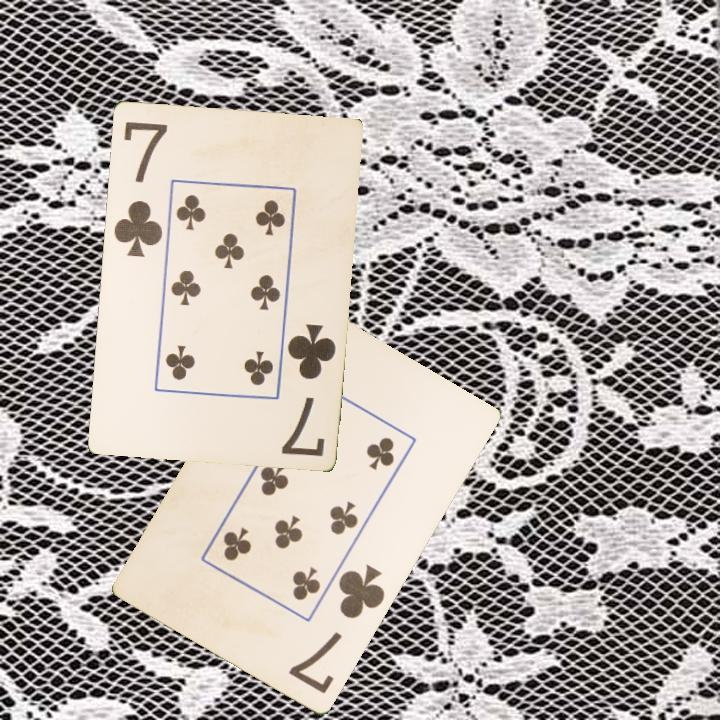7c: (285, 561, 388, 698), (109, 117, 170, 260), (277, 320, 338, 459)
